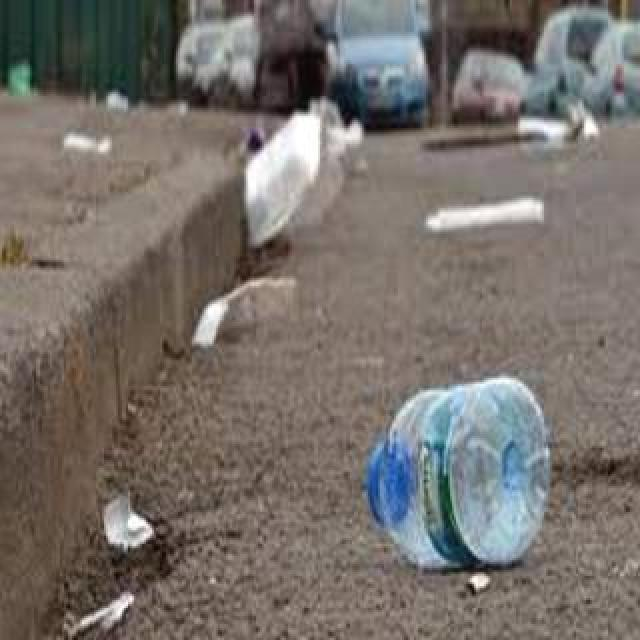Pet_Bottle: (355, 374, 561, 574)
